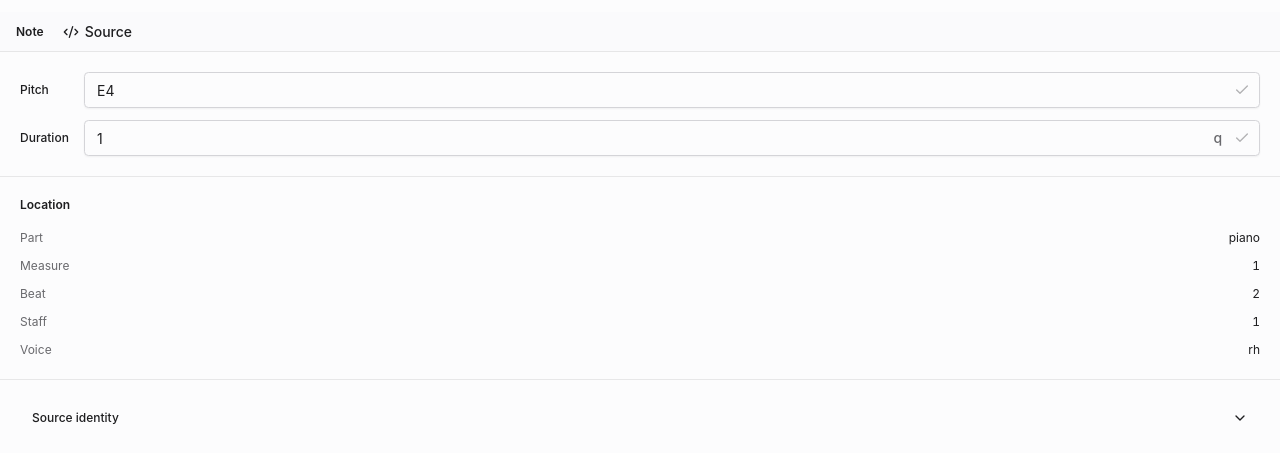
Test: React Inspector › uses an accessible collapsible and clears it when moving between events
Later steps or results of the test are not shown.
Click the button with class "source-details-trigger".
click(75, 418)  # box [20,400,1260,436]
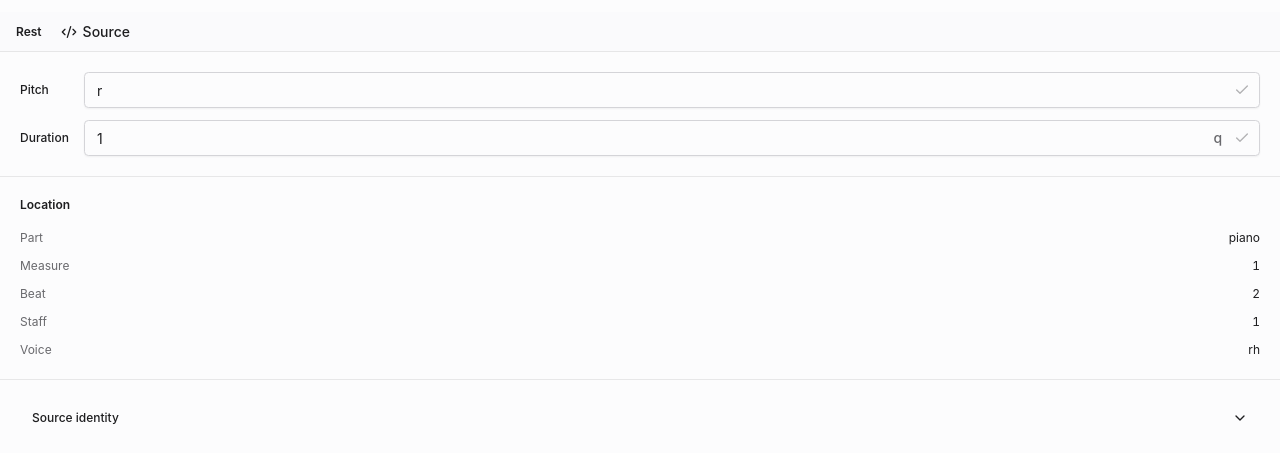
expect the heading with id "inspector-title" reads "Rest": met, box [16,24,42,38]
